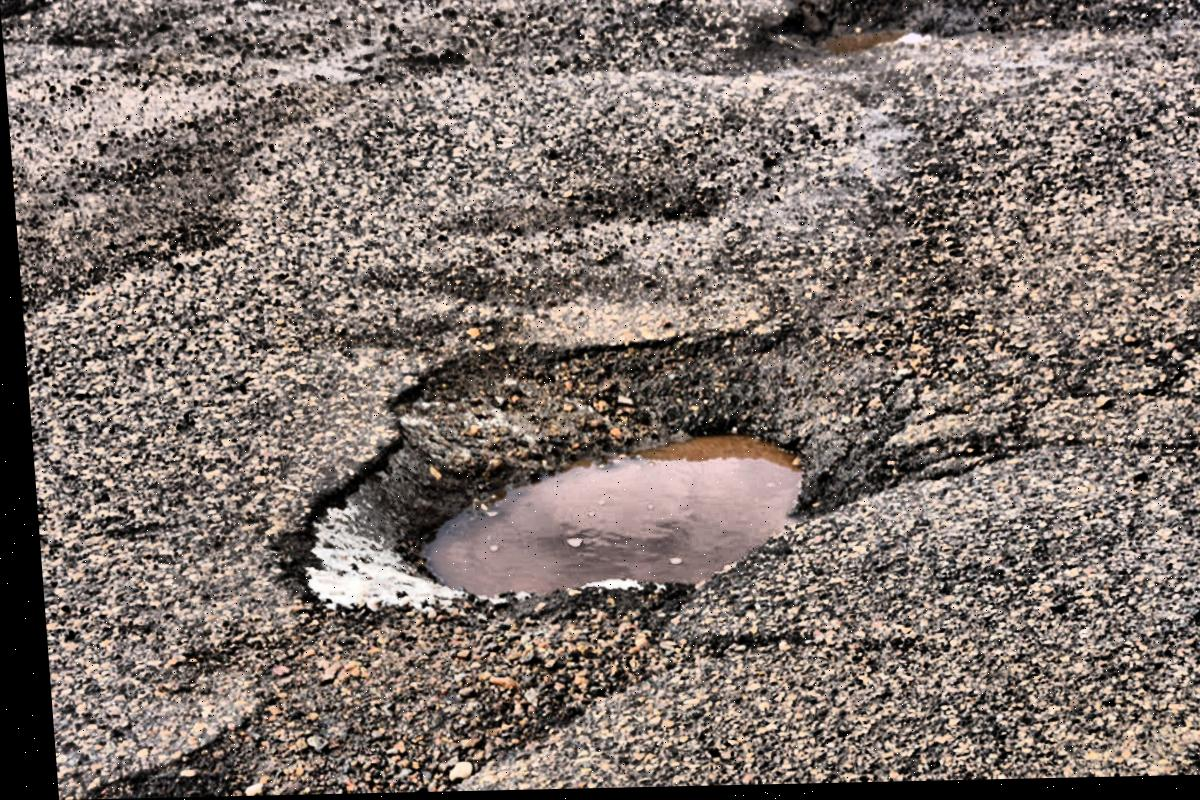pothole: (278, 315, 924, 633), (758, 0, 933, 68)
